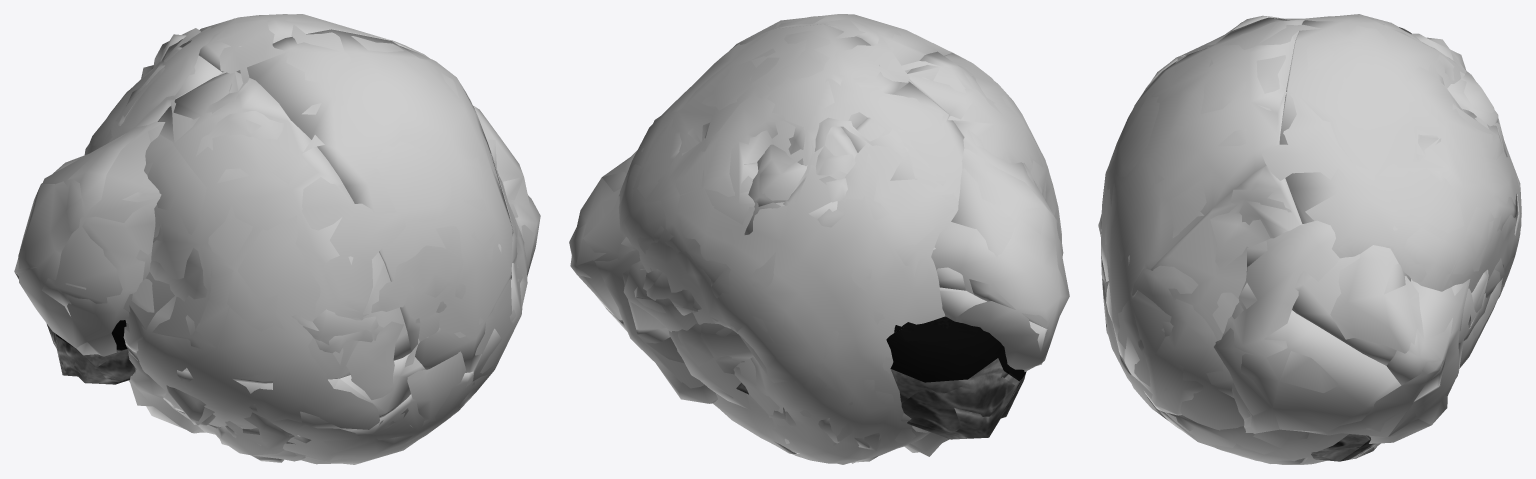
Rendered from asteroids.fbx.
3 views of the same model, side by side, from view 1: azimuth 30°, elevation 25°; view 2: azimuth 150°, elevation 25°; view 3: azimuth 270°, elevation 25° (orthographic).
Visible parts, largest first — view 1: Asteroid5_LOD0, Asteroid5_LOD1_shard_006, Asteroid5_LOD1_shard_003, Asteroid3_LOD0, Asteroid3_LOD1_shard_001, Asteroid6_LOD0, Asteroid5_LOD1_shard, Asteroid5_LOD1_shard_002, Asteroid2_LOD0, Asteroid5_LOD1_shard_005, Asteroid5_LOD1_shard_007, Asteroid5_LOD1_shard_008 (+3 smaller); view 2: Asteroid5_LOD0, Asteroid3_LOD0, Asteroid5_LOD1_shard_005, Asteroid5_LOD1_shard_007, Asteroid2_LOD0, Asteroid6_LOD0, Asteroid3_LOD1_shard_001, Asteroid5_LOD1_shard_003, Asteroid2_LOD1_shard_007, Asteroid3_LOD1_shard_002, Asteroid4_LOD1_shard_006, Asteroid5_LOD1_shard_006 (+7 smaller); view 3: Asteroid5_LOD0, Asteroid5_LOD1_shard_005, Asteroid5_LOD1_shard_006, Asteroid3_LOD0, Asteroid5_LOD1_shard_008, Asteroid3_LOD1_shard_004, Asteroid3_LOD1_shard_002, Asteroid3_LOD1_shard_003, Asteroid5_LOD1_shard_004, Asteroid6_LOD0, Asteroid2_LOD1_shard, Asteroid6_LOD1_shard_002 (+4 smaller).
Boxes of the visible parts, x1,y1,x2,y2 form: Asteroid5_LOD0: [89, 14, 527, 464]; Asteroid5_LOD1_shard_006: [236, 29, 513, 372]; Asteroid5_LOD1_shard_003: [123, 71, 411, 383]; Asteroid3_LOD0: [18, 106, 540, 356]; Asteroid3_LOD1_shard_001: [14, 121, 164, 315]; Asteroid6_LOD0: [117, 28, 519, 462]; Asteroid5_LOD1_shard: [177, 371, 473, 464]; Asteroid5_LOD1_shard_002: [126, 345, 425, 436]; Asteroid2_LOD0: [47, 320, 135, 384]; Asteroid5_LOD1_shard_005: [179, 14, 414, 72]; Asteroid5_LOD1_shard_007: [84, 47, 222, 154]; Asteroid5_LOD1_shard_008: [465, 95, 524, 402]; Asteroid5_LOD0: [618, 16, 1062, 463]; Asteroid3_LOD0: [570, 116, 1066, 403]; Asteroid5_LOD1_shard_005: [619, 24, 909, 312]; Asteroid5_LOD1_shard_007: [694, 82, 964, 464]; Asteroid2_LOD0: [886, 321, 1026, 432]; Asteroid6_LOD0: [646, 117, 949, 462]; Asteroid3_LOD1_shard_001: [951, 129, 1069, 328]; Asteroid5_LOD1_shard_003: [907, 51, 1063, 256]; Asteroid2_LOD1_shard_007: [736, 316, 1009, 413]; Asteroid3_LOD1_shard_002: [569, 196, 666, 329]; Asteroid4_LOD1_shard_006: [668, 323, 753, 410]; Asteroid5_LOD1_shard_006: [736, 14, 951, 72]; Asteroid5_LOD0: [1101, 15, 1521, 464]; Asteroid5_LOD1_shard_005: [1279, 14, 1518, 291]; Asteroid5_LOD1_shard_006: [1101, 17, 1304, 358]; Asteroid3_LOD0: [1215, 220, 1470, 443]; Asteroid5_LOD1_shard_008: [1124, 165, 1302, 415]; Asteroid3_LOD1_shard_004: [1214, 283, 1414, 439]; Asteroid3_LOD1_shard_002: [1386, 279, 1467, 400]; Asteroid3_LOD1_shard_003: [1292, 254, 1410, 365]; Asteroid5_LOD1_shard_004: [1158, 409, 1309, 463]; Asteroid6_LOD0: [1098, 33, 1507, 381]; Asteroid2_LOD1_shard: [1311, 434, 1370, 461]; Asteroid6_LOD1_shard_002: [1427, 37, 1498, 126].
Size of what is drawn, in the model's own units: 23.61 by 20.08 by 18.65.
